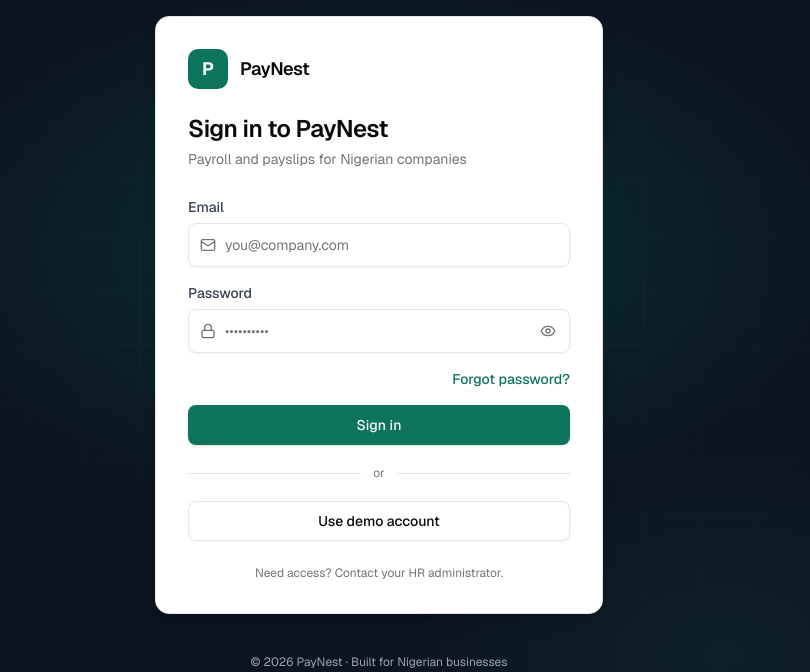
Test: LoginScreen › toggles password visibility
Type "secret" into the password field labelled "Password" at coordinates (379, 331), box x1=188 y1=309 x2=570 y2=353
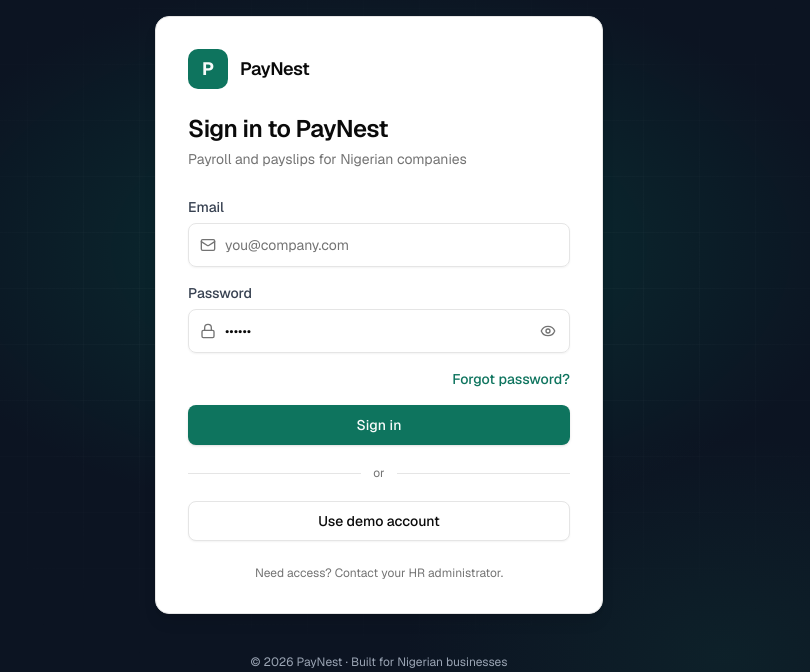
Click the button named "Show password" at coordinates (548, 331), box x1=534 y1=317 x2=562 y2=345
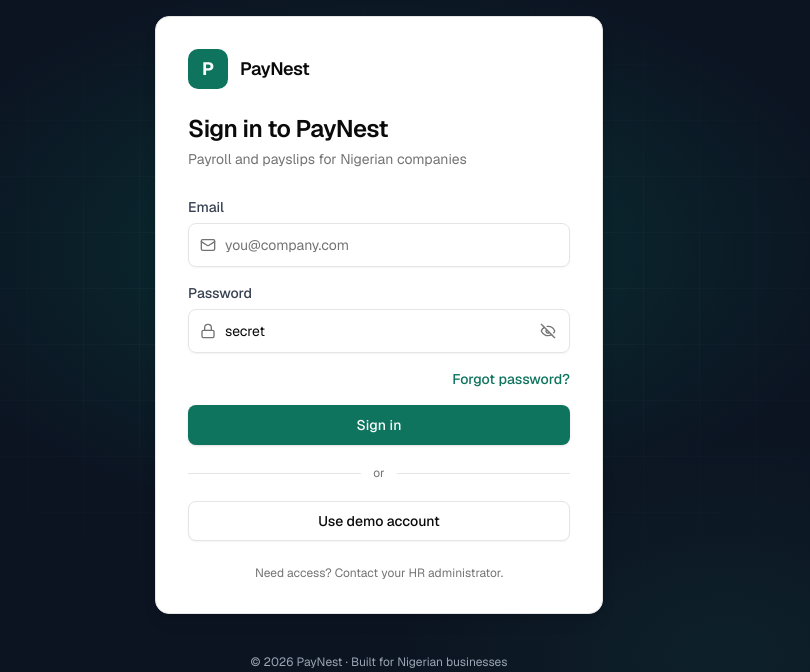
Now the field labelled "Password" shows its text, box x1=188 y1=309 x2=570 y2=353
